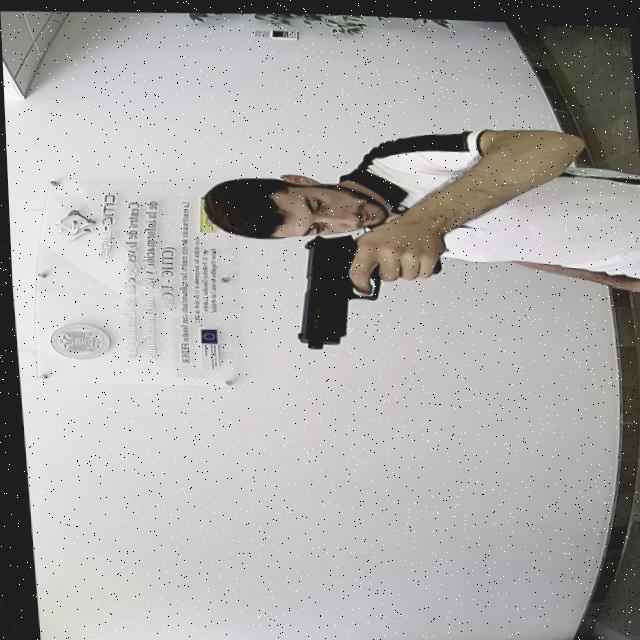pistol: (282, 230, 382, 351)
